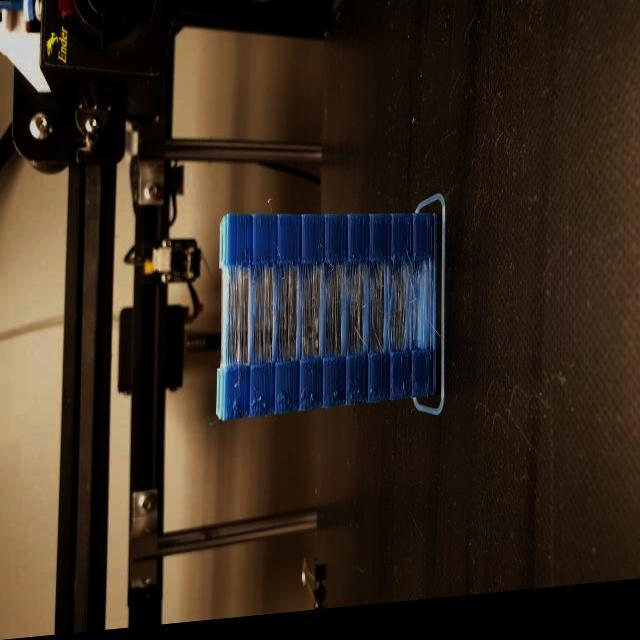stringing: (256, 272, 270, 368), (279, 276, 293, 366), (328, 274, 340, 364), (304, 276, 316, 364), (370, 272, 382, 359), (228, 276, 246, 331), (352, 270, 362, 359), (394, 272, 404, 356), (228, 332, 246, 367)
